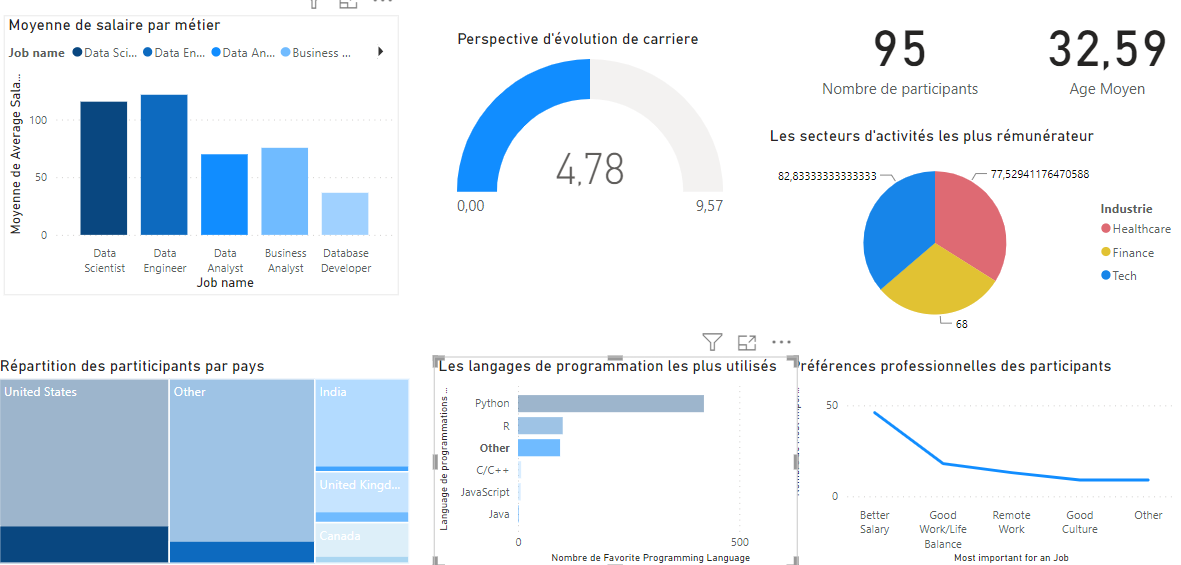

The dashboard page shown, as its layout file describes it:
{"tool":"powerbi","page":{"name":"Page 1","canvas":[1280,720],"ordinal":0},"visuals":[{"type":"textbox","box":[9.4,0,1270.9,104.9],"z":0},{"type":"columnChart","title":"Moyenne de salaire par métier","fields":{"Category":["SurveyData.Job name"],"Y":["Avg(SurveyData.Average Salary)"],"Series":["SurveyData.Job name"]},"box":[9.4,125.1,425,301.2],"z":1000},{"type":"card","fields":{"Values":["Avg(SurveyData.Current_Age)"]},"box":[1113.5,104.9,166.8,119.7],"z":2000},{"type":"card","fields":{"Values":["CountNonNull(SurveyData.Unique ID)"]},"box":[851.3,104.9,244.8,119.7],"z":3000},{"type":"barChart","title":"Les langages de programmation les plus utilisés","fields":{"Category":["SurveyData.Favorite Programming Language"],"Y":["CountNonNull(SurveyData.Favorite Programming Language)"]},"box":[472,492.2,391.3,227.3],"z":4000},{"type":"treemap","title":"Répartition des partiticipants par pays","fields":{"Group":["SurveyData.Country"],"Values":["CountNonNull(SurveyData.Country)"]},"box":[0,492.2,450.5,227.3],"z":5000},{"type":"pieChart","title":"Les secteurs d''activités les plus rémunérateur ","fields":{"Y":["Avg(SurveyData.Average Salary)"],"Category":["SurveyData.Industrie"]},"box":[828.4,244.8,451.9,231.3],"z":6000},{"type":"gauge","title":"Perspective d''évolution de carriere","fields":{"Y":["Avg(SurveyData.Upward Mobility notation)"]},"box":[492.2,139.9,295.9,220.6],"z":8001},{"type":"lineChart","title":"Préférences professionnelles des participants","fields":{"Category":["SurveyData.Most important for an Job"],"Y":["CountNonNull(SurveyData.Most important for an Job)"]},"box":[851.3,492.2,429,227.3],"z":8002}]}

Visuals, with their boxes on the page's 1280x720 design canvas (x1, y1, x2, y2). These are canvas units, not pixel positions in the 1181x565 screenshot, which may show the page scaled, cropped or inside an application window:
textbox: bbox=[9, 0, 1280, 105]
"Moyenne de salaire par métier" columnChart: bbox=[9, 125, 434, 426]
card - Avg(SurveyData.Current_Age): bbox=[1114, 105, 1280, 225]
card - CountNonNull(SurveyData.Unique ID): bbox=[851, 105, 1096, 225]
"Les langages de programmation les plus utilisés" barChart: bbox=[472, 492, 863, 720]
"Répartition des partiticipants par pays" treemap: bbox=[0, 492, 450, 720]
"Les secteurs d''activités les plus rémunérateur " pieChart: bbox=[828, 245, 1280, 476]
"Perspective d''évolution de carriere" gauge: bbox=[492, 140, 788, 360]
"Préférences professionnelles des participants" lineChart: bbox=[851, 492, 1280, 720]
